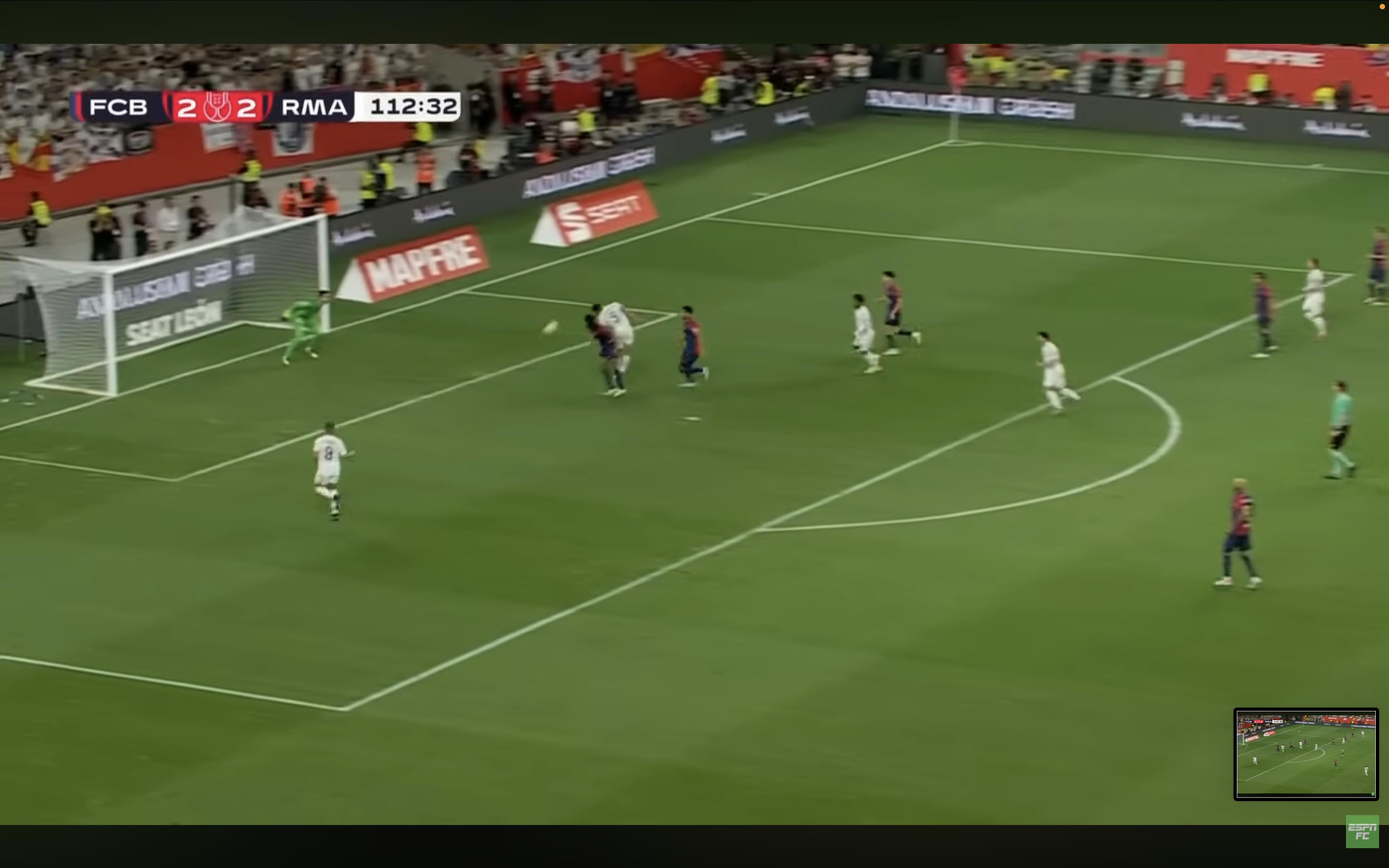ball: (542, 320, 559, 335)
goalkeeper: (282, 291, 329, 364)
player: (1215, 479, 1261, 589), (313, 423, 351, 520), (1038, 332, 1081, 413), (585, 312, 625, 397), (591, 302, 635, 377), (882, 271, 921, 355), (679, 305, 709, 387), (853, 294, 881, 373), (1253, 272, 1278, 358), (1302, 258, 1327, 340), (1365, 227, 1389, 305), (1252, 756, 1256, 765)
referee: (1327, 381, 1357, 479)
